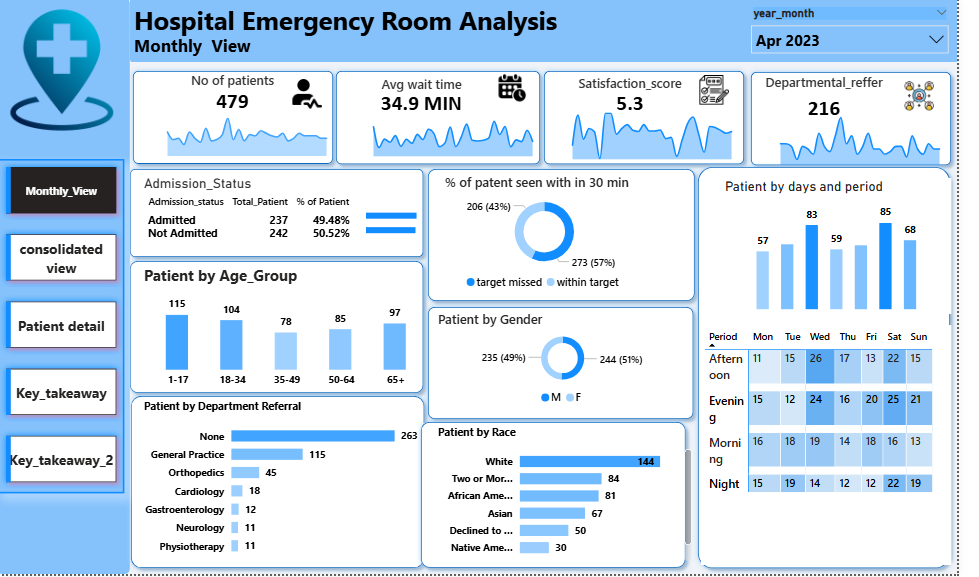

Layout of this report page (visuals, bound fields, positions):
{"tool":"powerbi","page":{"name":"Monthly_View","canvas":[1200,720],"ordinal":0},"visuals":[{"type":"shape","box":[0,0,166.3,720],"z":0},{"type":"shape","box":[166.3,0,1113.7,80.4],"z":1000},{"type":"textbox","box":[166.7,0,578.7,56.8],"z":2000},{"type":"textbox","box":[166.7,40,216.7,40],"z":3000},{"type":"slicer","fields":{"Values":["Calendar_Table.year_month"]},"box":[932.9,5.7,267.1,74.3],"z":4000},{"type":"shape","box":[161.9,83.4,265,131],"z":5000},{"type":"shape","box":[416.7,83.3,270,131.7],"z":6000},{"type":"shape","box":[676.7,83.3,265,131.7],"z":7000},{"type":"shape","box":[935,85,265,131.7],"z":8000},{"type":"shape","box":[158.3,206.7,381.7,125],"z":9000},{"type":"shape","box":[158.3,321.7,381.7,180],"z":10000},{"type":"shape","box":[160,490,381.7,230],"z":11000},{"type":"card","title":"No of patients","fields":{"Values":["Hospital Emergency Room Data.Total_Patient"]},"box":[223.8,91.2,141.2,57.5],"z":12000},{"type":"card","title":"Avg wait time ","fields":{"Values":["Hospital Emergency Room Data.Avg_wait_time"]},"box":[427.5,96.2,206.2,52.5],"z":13000},{"type":"card","title":"Satisfaction_score","fields":{"Values":["Hospital Emergency Room Data.Patient_satisfaction score"]},"box":[710,95,162.5,55],"z":14000},{"type":"card","title":"Departmental_reffer","fields":{"Values":["Hospital Emergency Room Data.Patient_Referred"]},"box":[941.2,93.8,185,70],"z":15000},{"type":"pivotTable","title":"Admission_Status","fields":{"Rows":["Hospital Emergency Room Data.Admission_status"],"Values":["Hospital Emergency Room Data.Total_Patient1","Divide(Hospital Emergency Room Data.Total_Patient, ScopedEval(Hospital Emergency Room Data.Total_Patient, []))"]},"box":[178.3,220.9,273.5,88.5],"z":16000},{"type":"barChart","fields":{"Category":["Hospital Emergency Room Data.Admission_status"],"Y":["Hospital Emergency Room Data.Total_Patient"]},"box":[456.7,246.7,88.3,63.3],"z":17000},{"type":"clusteredColumnChart","title":"Patient by Age_Group","fields":{"Category":["Hospital Emergency Room Data.Age_Group"],"Y":["Hospital Emergency Room Data.Total_Patient"]},"box":[178.3,333.9,367.4,160.9],"z":18000},{"type":"clusteredBarChart","title":"Patient by Department Referral","fields":{"Category":["Hospital Emergency Room Data.Department Referral"],"Y":["Hospital Emergency Room Data.Total_Patient"]},"box":[178.3,501.7,365,206.7],"z":19000},{"type":"shape","box":[531.7,206.7,348.3,180],"z":20000},{"type":"donutChart","title":"% of patent seen with in 30 min","fields":{"Y":["Hospital Emergency Room Data.Total_Patient"],"Category":["Hospital Emergency Room Data.Wait_time"]},"box":[555,218.3,258.3,155],"z":21000},{"type":"shape","box":[531.7,378.3,346.7,155],"z":22000},{"type":"donutChart","title":"Patient by Gender","fields":{"Y":["Hospital Emergency Room Data.Total_Patient"],"Category":["Hospital Emergency Room Data.Patient Gender"]},"box":[546.7,390,321.7,128.3],"z":23000},{"type":"shape","box":[522.9,522.9,345.7,197.1],"z":24000},{"type":"clusteredBarChart","title":"Patient by Race","fields":{"Y":["Hospital Emergency Room Data.Total_Patient"],"Category":["Hospital Emergency Room Data.Patient Race"]},"box":[546.7,533.3,326.7,175],"z":25000},{"type":"shape","box":[868.3,203.3,330,516.7],"z":26000},{"type":"pivotTable","fields":{"Rows":["Hospital Emergency Room Data.Time_Bucket"],"Columns":["Calendar_Table.Day_name"],"Values":["Hospital Emergency Room Data.Total_Patient"]},"box":[880,408.3,313.3,300],"z":27000},{"type":"columnChart","title":"Patient by days and period","fields":{"Category":["Calendar_Table.week_day"],"Y":["Hospital Emergency Room Data.Total_Patient"]},"box":[905,225,288.3,170],"z":28000},{"type":"image","box":[0,5,161.7,170],"z":29000},{"type":"image","box":[351.4,95.7,72,47],"z":30000},{"type":"image","box":[607.1,88.6,72.9,47.1],"z":31000},{"type":"image","box":[860,91.7,72,47],"z":32000},{"type":"image","box":[1116.7,98.3,72,47],"z":33000},{"type":"areaChart","fields":{"Category":["Calendar_Table.Date.Variation.Date Hierarchy.Day"],"Y":["Hospital Emergency Room Data.Total_Patient"]},"box":[191.4,135.7,235.7,67.1],"z":34000},{"type":"areaChart","fields":{"Category":["Calendar_Table.Date.Variation.Date Hierarchy.Day"],"Y":["Avg(Hospital Emergency Room Data.Patient Waittime)"]},"box":[448.6,135.7,235.7,67.1],"z":35000},{"type":"areaChart","fields":{"Category":["Calendar_Table.Date.Variation.Date Hierarchy.Day"],"Y":["Avg(Hospital Emergency Room Data.Patient Satisfaction Score)"]},"box":[697.1,130,235.7,77.1],"z":36000},{"type":"areaChart","fields":{"Category":["Calendar_Table.Date.Variation.Date Hierarchy.Day"]},"box":[942.9,130,235.7,67.1],"z":37000},{"type":"areaChart","fields":{"Category":["Calendar_Table.Date.Variation.Date Hierarchy.Day"],"Y":["Hospital Emergency Room Data.Patient_Referred"]},"box":[957.1,128.6,235.7,85.7],"z":38000},{"type":"pageNavigator","box":[1.7,201.7,158.3,418.3],"z":39000}]}

Visuals, with their boxes in screenshot pixels (x1, y1, x2, y2), scaled from the page's 1200x720 canvas onto the 979x577 screenshot:
shape: 0, 0, 136, 576
shape: 136, 0, 978, 64
textbox: 136, 0, 608, 46
textbox: 136, 32, 313, 64
slicer - Calendar_Table.year_month: 761, 5, 978, 64
shape: 132, 67, 348, 172
shape: 340, 67, 560, 172
shape: 552, 67, 768, 172
shape: 763, 68, 978, 174
shape: 129, 166, 441, 266
shape: 129, 258, 441, 402
shape: 131, 393, 442, 576
"No of patients" card: 183, 73, 298, 119
"Avg wait time " card: 349, 77, 517, 119
"Satisfaction_score" card: 579, 76, 712, 120
"Departmental_reffer" card: 768, 75, 919, 131
"Admission_Status" pivotTable: 145, 177, 369, 248
barChart - Hospital Emergency Room Data.Admission_status x Hospital Emergency Room Data.Total_Patient: 373, 198, 445, 248
"Patient by Age_Group" clusteredColumnChart: 145, 268, 445, 397
"Patient by Department Referral" clusteredBarChart: 145, 402, 443, 568
shape: 434, 166, 718, 310
"% of patent seen with in 30 min" donutChart: 453, 175, 664, 299
shape: 434, 303, 717, 427
"Patient by Gender" donutChart: 446, 313, 708, 415
shape: 427, 419, 709, 576
"Patient by Race" clusteredBarChart: 446, 427, 713, 568
shape: 708, 163, 978, 576
pivotTable - Hospital Emergency Room Data.Time_Bucket x Calendar_Table.Day_name: 718, 327, 974, 568
"Patient by days and period" columnChart: 738, 180, 974, 317
image: 0, 4, 132, 140
image: 287, 77, 345, 114
image: 495, 71, 555, 109
image: 702, 73, 760, 111
image: 911, 79, 970, 116
areaChart - Calendar_Table.Date.Variation.Date Hierarchy.Day x Hospital Emergency Room Data.Total_Patient: 156, 109, 348, 163
areaChart - Calendar_Table.Date.Variation.Date Hierarchy.Day x Avg(Hospital Emergency Room Data.Patient Waittime): 366, 109, 558, 163
areaChart - Calendar_Table.Date.Variation.Date Hierarchy.Day x Avg(Hospital Emergency Room Data.Patient Satisfaction Score): 569, 104, 761, 166
areaChart - Calendar_Table.Date.Variation.Date Hierarchy.Day: 769, 104, 962, 158
areaChart - Calendar_Table.Date.Variation.Date Hierarchy.Day x Hospital Emergency Room Data.Patient_Referred: 781, 103, 973, 172
pageNavigator: 1, 162, 131, 497
